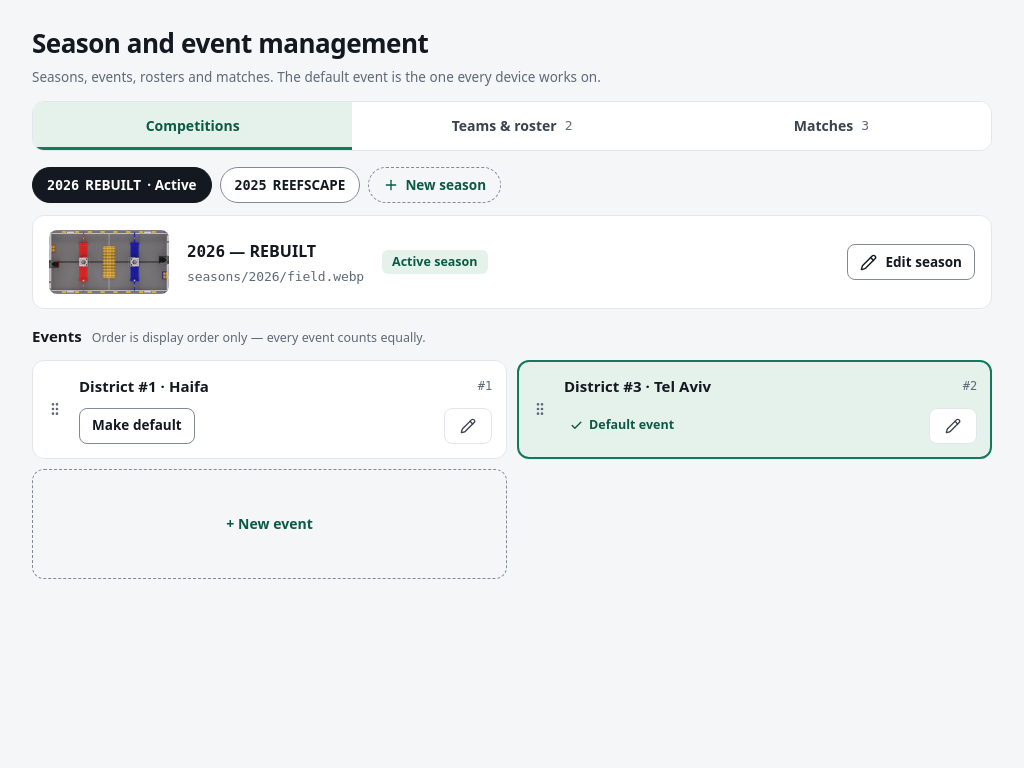
Test: ManagePage › a roster change on its tab updates the tab count
Click the tab "Teams & roster 2": {"x": 512, "y": 126} [352, 102, 672, 150]
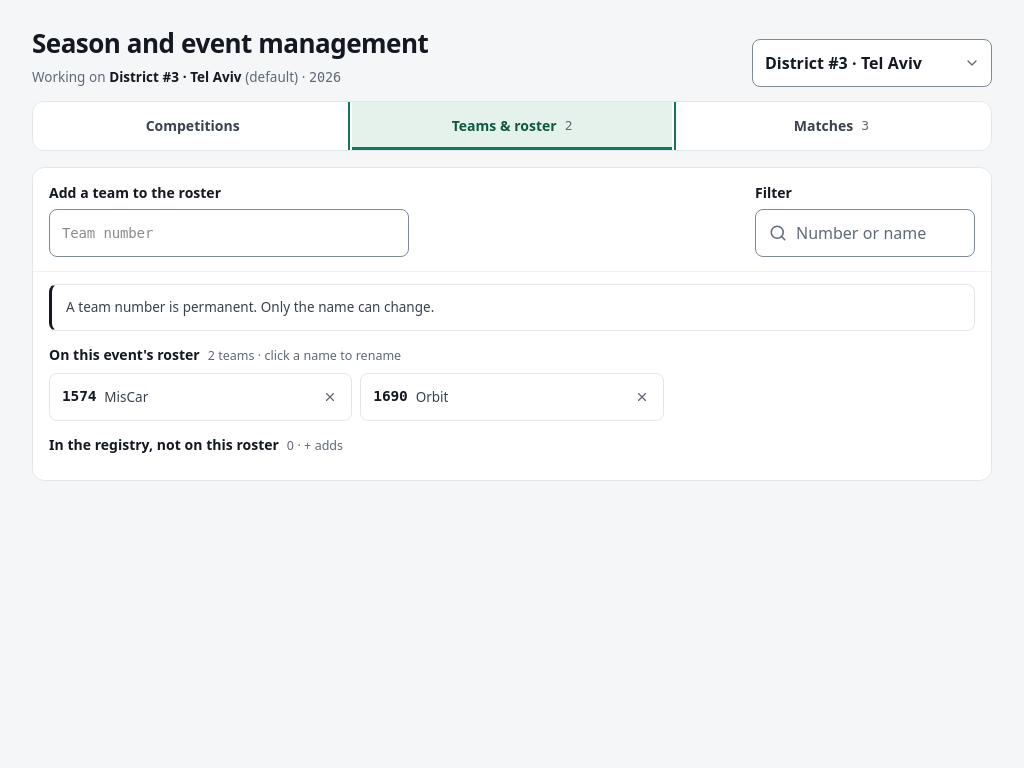
Click the button named "Remove 1574 MisCar from the roster": {"x": 330, "y": 397} [315, 382, 345, 412]
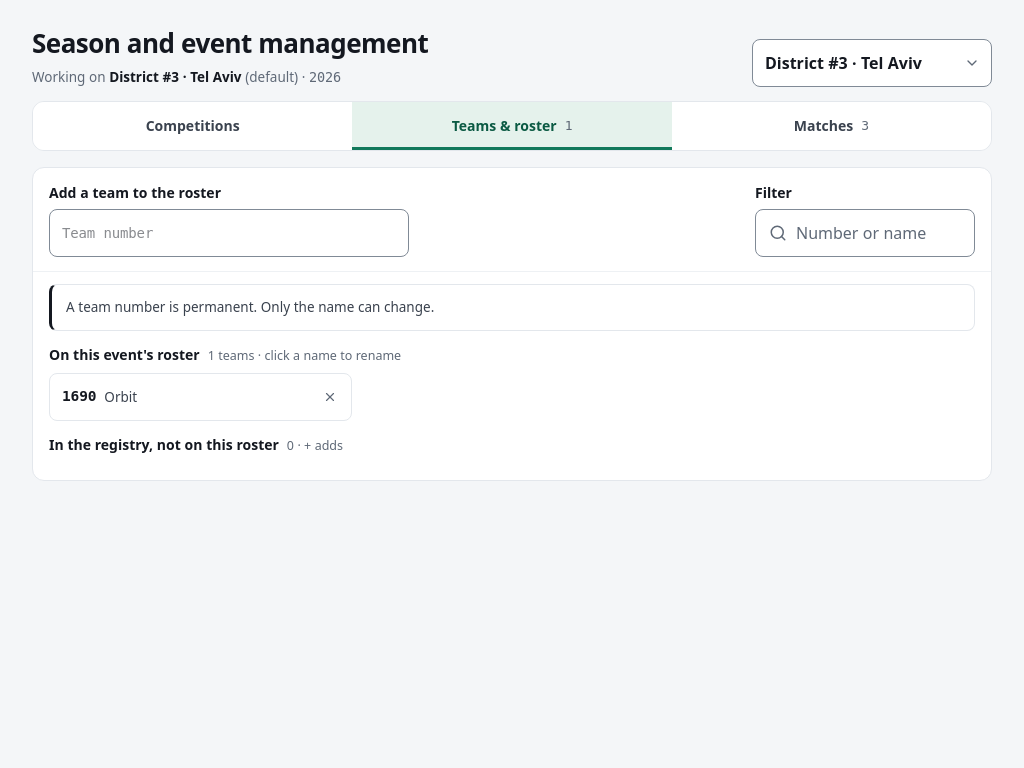
Now the tab "Teams & roster 1" is shown, box [352, 102, 672, 150]
